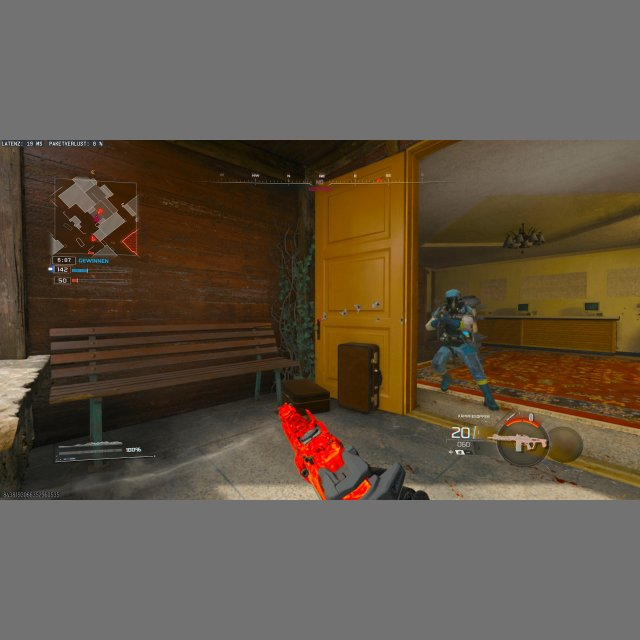head: (444, 289, 461, 311)
player: (426, 288, 500, 411)
